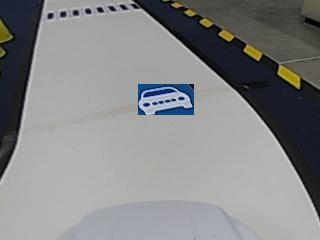crosswalk: (45, 3, 138, 18)
